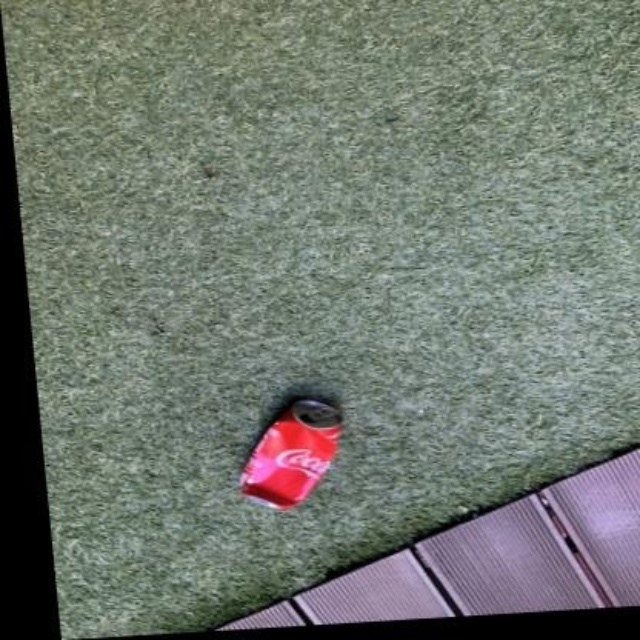trash: (240, 398, 342, 508)
